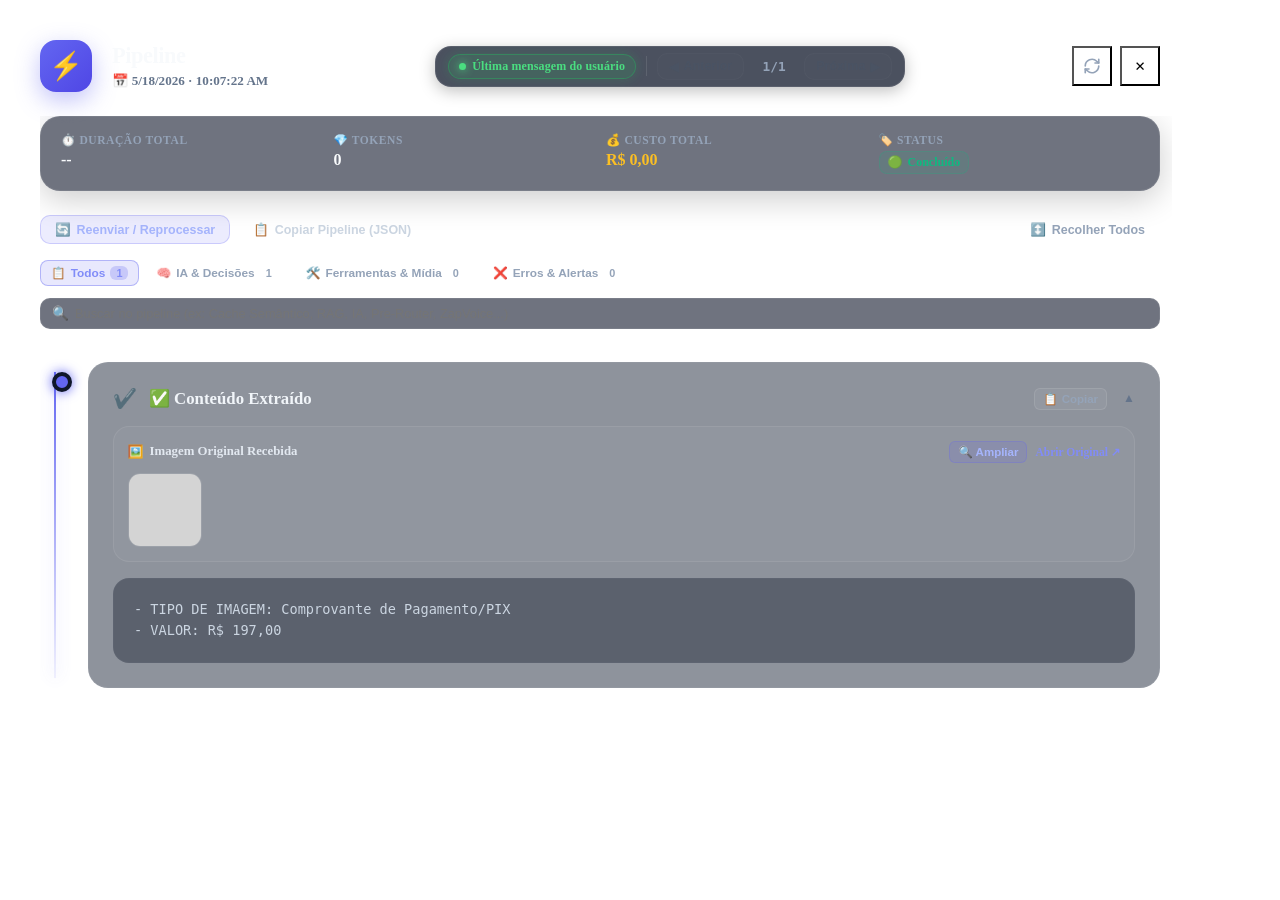
AutomationPipelineModal Component › deve abrir e fechar o modal de visualização de imagem em tela cheia (Lightbox)
// Clicar no botão Ampliar
Click the button titled "Ver imagem ampliada": (988, 452) x1=949 y1=441 x2=1027 y2=463
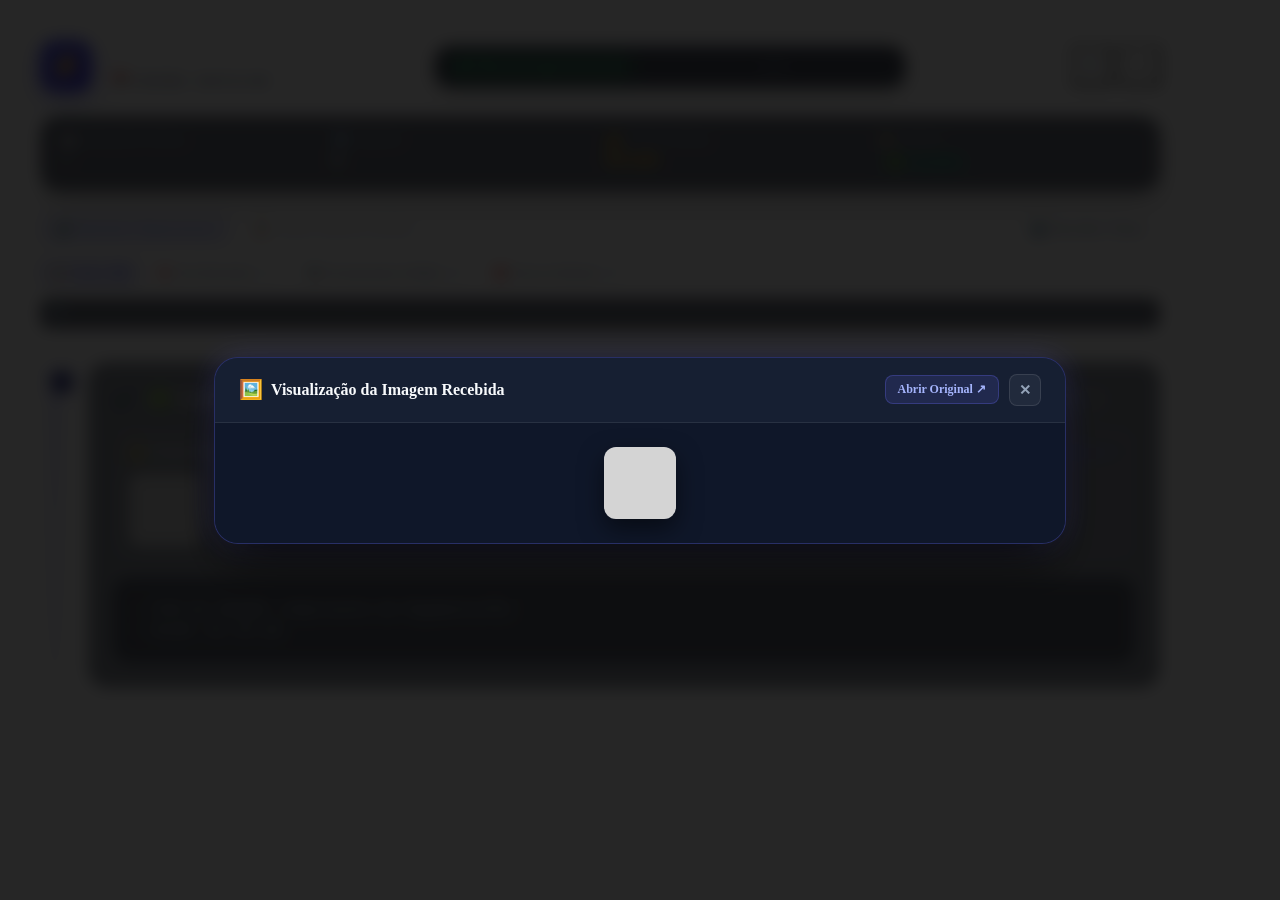
Now the element with test id "image-lightbox-backdrop" is shown
Now the heading "Visualização da Imagem Recebida" is shown, box x1=271 y1=380 x2=505 y2=398
// Fechar Lightbox
Click the button titled "Fechar visualização": (1025, 390) x1=1009 y1=374 x2=1041 y2=406
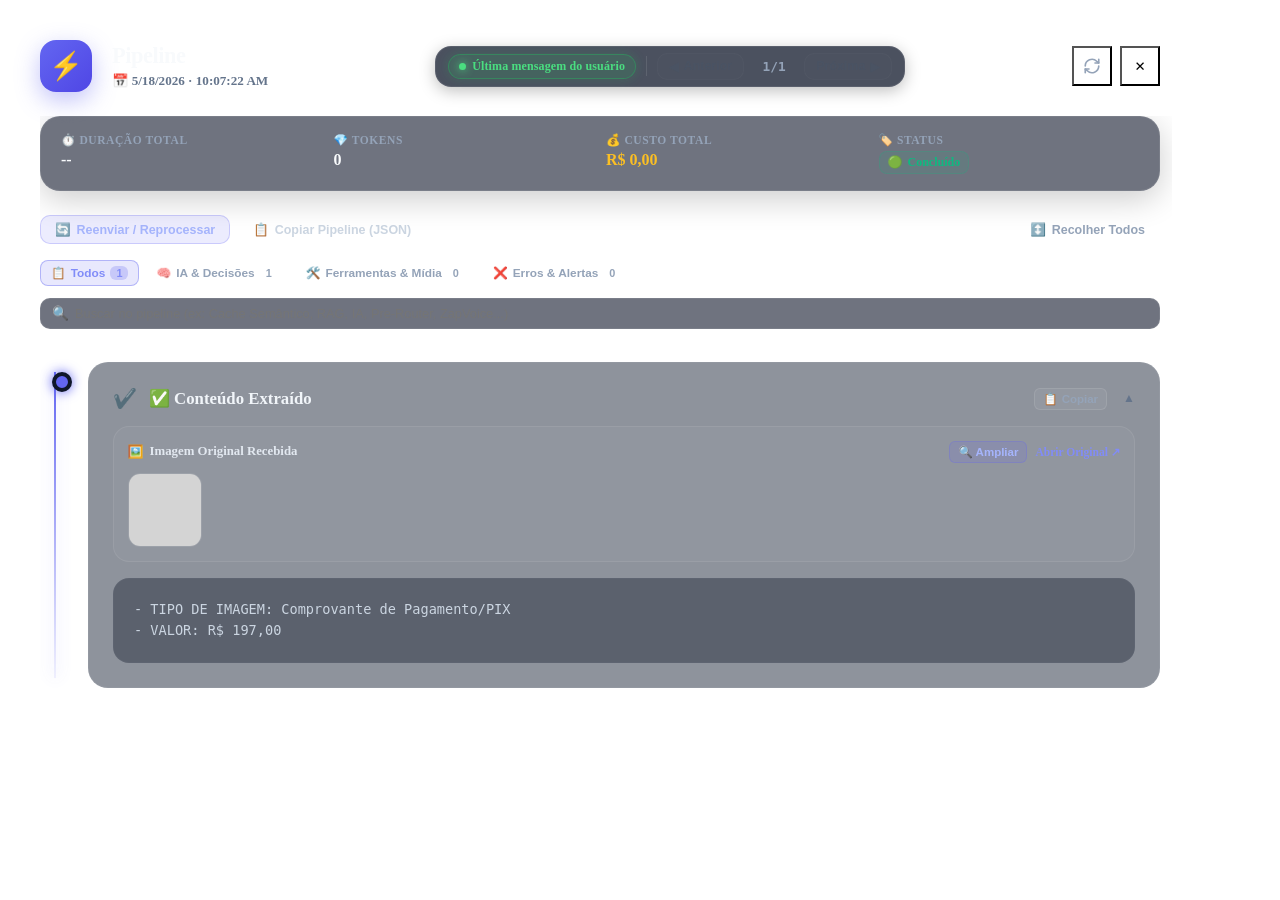
Now the element with test id "image-lightbox-backdrop" is gone
